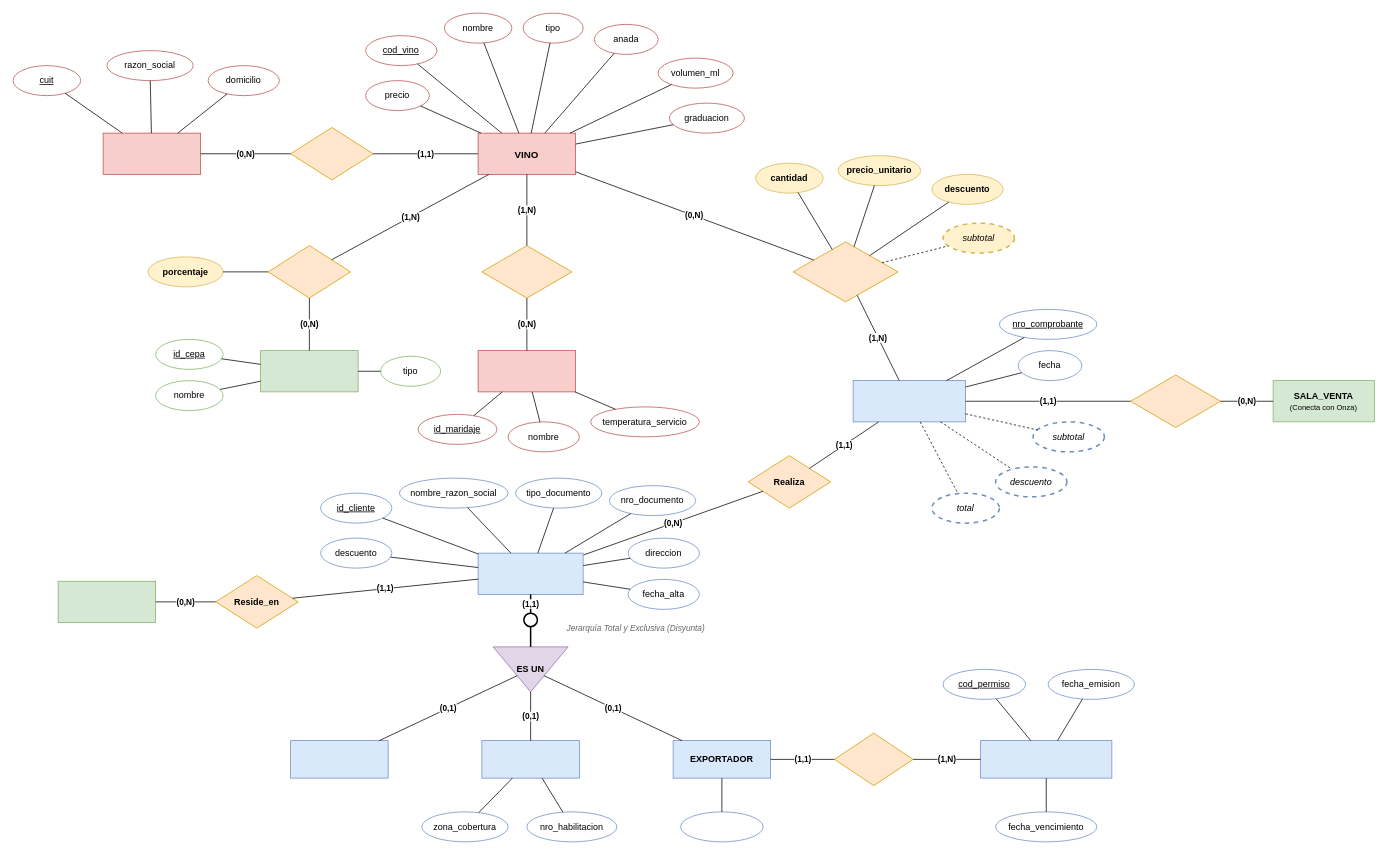
The diagram is 1388 pixels wide and 855 high, and some of its shapes have lost their labels. The centre of each missing label's shape, as x and y in pixels:
"BODEGA" goes at [151,153].
"CEPA (Conecta con Onza)" goes at [309,371].
"CLIENTE" goes at [530,573].
"Compone" goes at [309,271].
"COMPROBANTE (Venta)" goes at [909,401].
"DISTRIBUIDOR" goes at [530,759].
"Elabora" goes at [331,153].
"Incluye_renglon" goes at [845,271].
"LOCALIDAD (Conecta con Onza)" goes at [106,601].
"MARIDAJE" goes at [526,371].
"pais_destino" goes at [721,826].
"PERMISO_EXPORTACION" goes at [1046,759].
"Posee" goes at [873,759].
"Recomienda" goes at [526,271].
"Se_realiza_en" goes at [1175,401].
"SOCIO" goes at [339,759].
